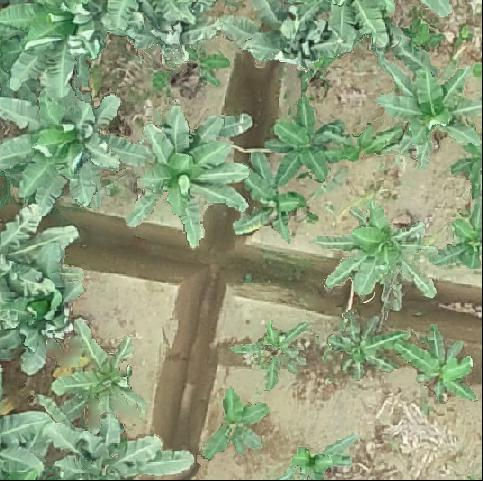Banana-plant: (119, 106, 257, 242), (4, 83, 119, 215), (324, 201, 439, 312), (0, 215, 79, 373), (381, 49, 474, 153), (49, 420, 201, 481), (2, 0, 103, 84), (52, 318, 147, 405), (400, 324, 480, 406), (266, 101, 337, 193), (242, 153, 306, 252), (196, 382, 277, 457), (225, 323, 319, 387), (331, 319, 407, 381), (318, 116, 398, 167), (437, 203, 483, 278), (288, 439, 351, 481)
